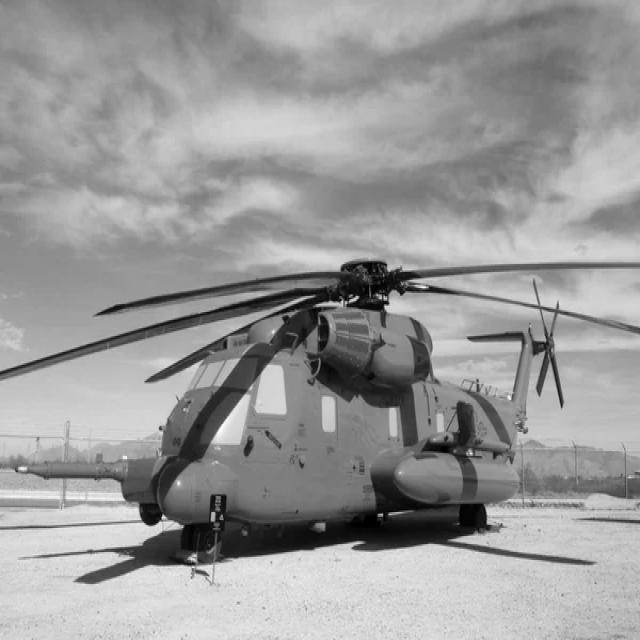Helicopter: (0, 260, 640, 550)
